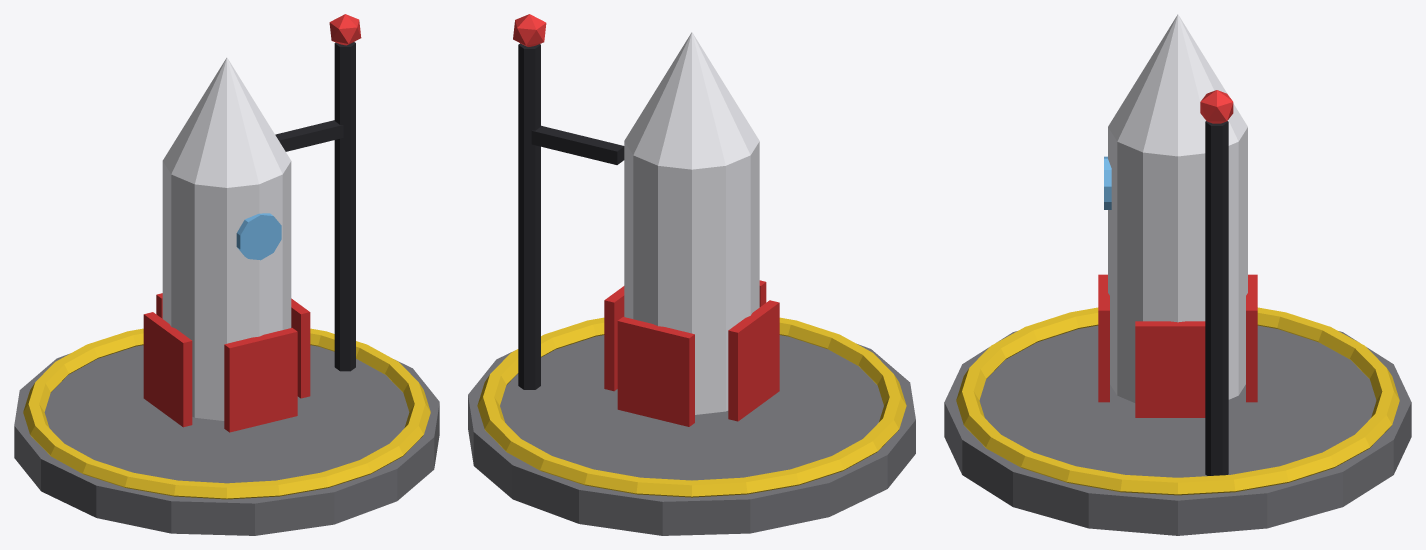
The model's file is MailChuteRocket.fbx.
The picture shows the model from 3 angles, left to right: view 1: azimuth 30°, elevation 25°; view 2: azimuth 150°, elevation 25°; view 3: azimuth 270°, elevation 25°; orthographic projection. The views are drawn at different scales.
Visible parts, largest first — view 1: Pad, Rocket, Hazard, Fins, Tower, Window, Light; view 2: Pad, Rocket, Hazard, Fins, Tower, Light; view 3: Pad, Rocket, Hazard, Fins, Tower, Light.
Part boxes in pixels (bbox=[...]): Pad: bbox=[14, 345, 439, 535]; Rocket: bbox=[162, 57, 291, 420]; Hazard: bbox=[23, 328, 430, 499]; Fins: bbox=[143, 293, 310, 432]; Tower: bbox=[275, 42, 355, 371]; Window: bbox=[236, 213, 281, 260]; Light: bbox=[329, 14, 361, 45]; Pad: bbox=[468, 335, 915, 535]; Rocket: bbox=[624, 32, 759, 414]; Hazard: bbox=[477, 317, 906, 497]; Fins: bbox=[604, 280, 779, 426]; Tower: bbox=[518, 43, 624, 389]; Light: bbox=[513, 14, 546, 46]; Pad: bbox=[944, 325, 1411, 535]; Rocket: bbox=[1108, 14, 1247, 402]; Hazard: bbox=[956, 307, 1399, 495]; Fins: bbox=[1098, 274, 1257, 417]; Tower: bbox=[1205, 121, 1228, 475]; Light: bbox=[1200, 90, 1233, 123].
Size of the model in its own units: 6 by 6 by 6.
